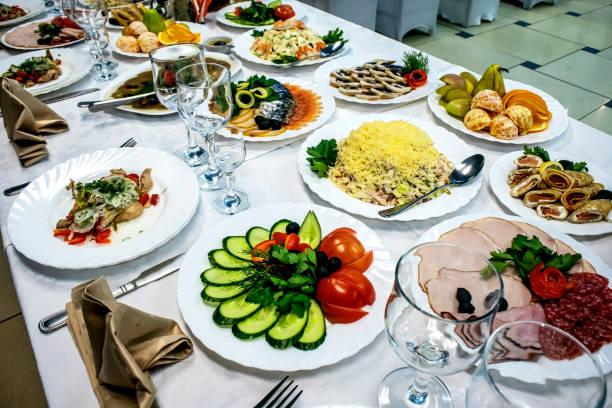Braised Crucian Carp: (175, 203, 384, 371), (407, 213, 610, 382), (8, 145, 200, 269), (298, 113, 478, 222), (487, 148, 612, 234), (429, 75, 567, 144), (207, 74, 329, 143), (319, 57, 437, 105)
